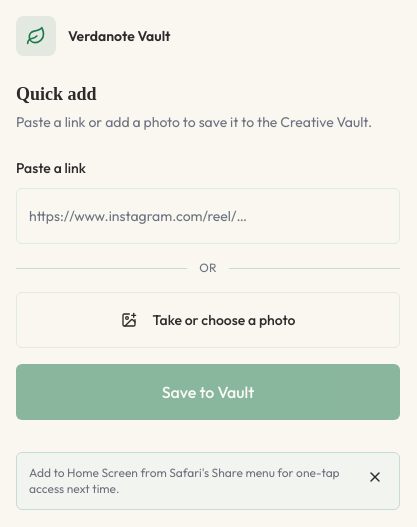
Scenario: US-004: pasting a link › saves the pasted link through the shared capture service
Type "https://www.instagram.com/reel/abc123/" into the field labelled "Paste a link" at (208, 216), box [16,188,400,244]
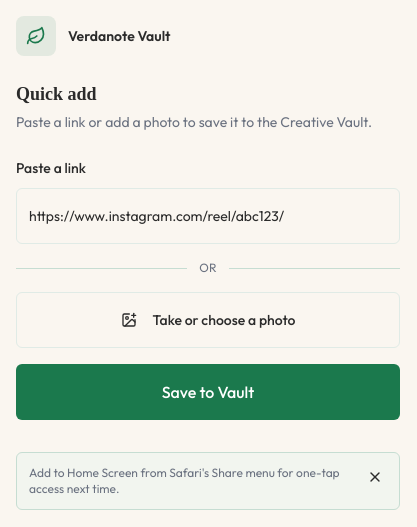
Click the button "Save to Vault" at (208, 392), box [16,364,400,420]
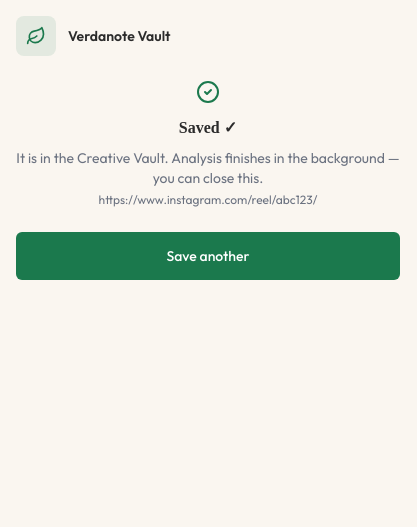
Now the heading "Saved ✓" is shown, box [179,116,237,140]
